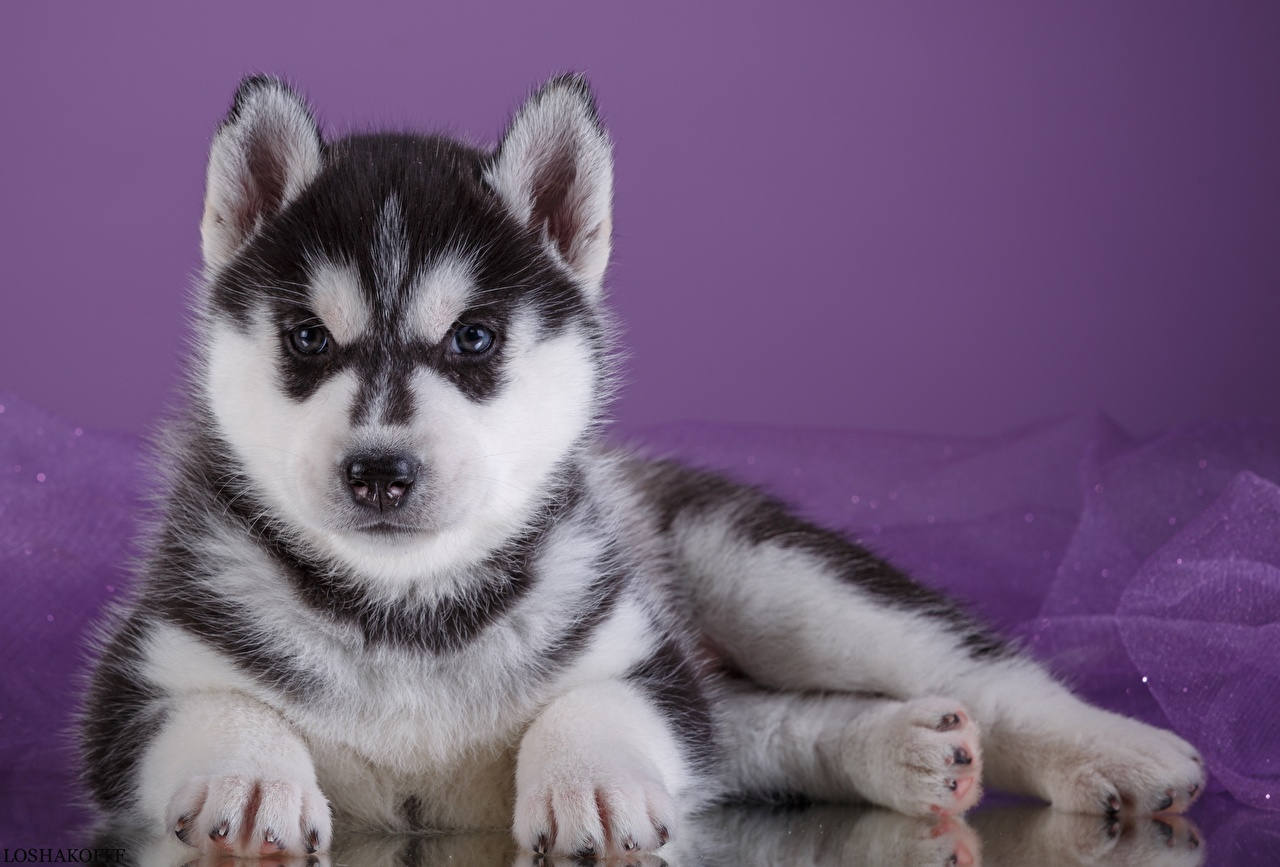husky: (114, 42, 997, 844)
